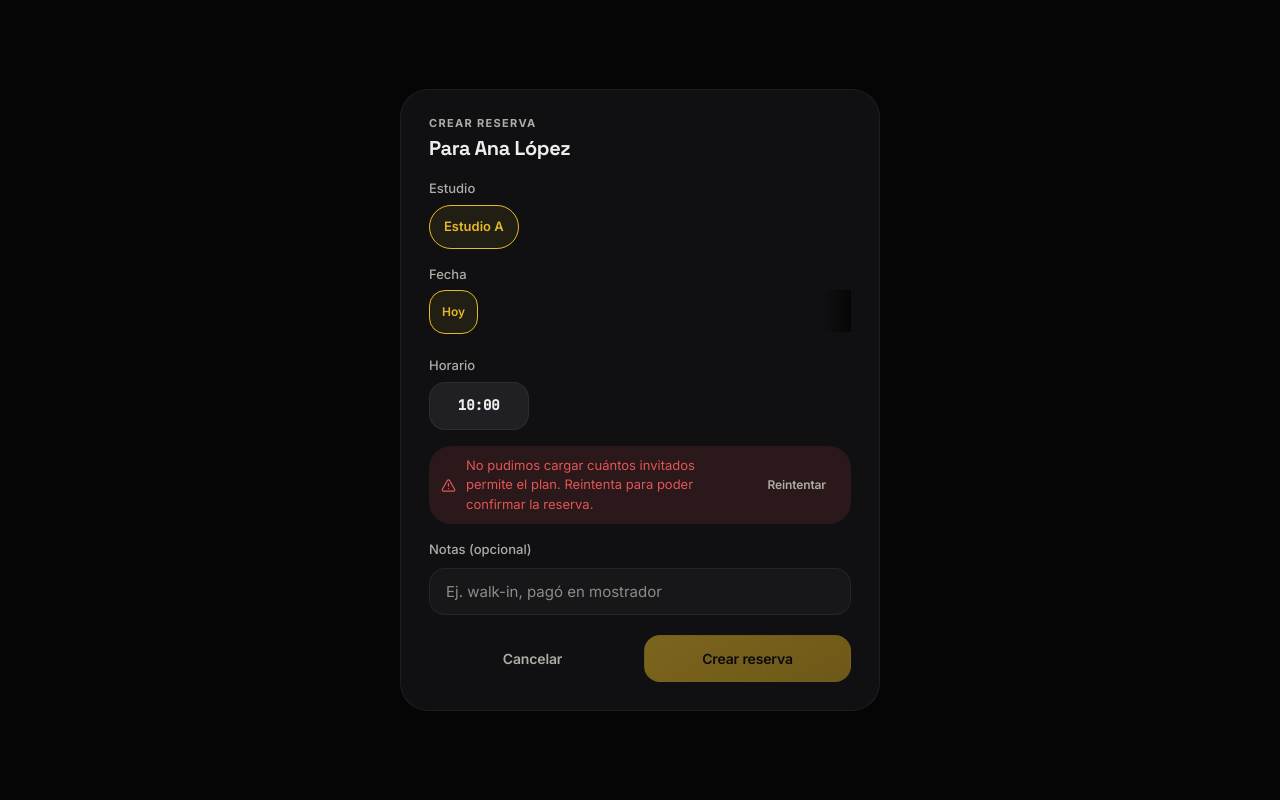
Scenario: CrearReservaModal · estados honestos (PKG-02A) › límite de invitados en ERROR → no se asume 0: aviso, sin stepper, y Confirmar bloqueado hasta reintentar
This screenshot has width=1280, height=800.
Expected: the text "No pudimos cargar cuántos invitados permite el plan" is shown, [466,457,695,512]
Expected: the text "Invitados (" is not shown
Click the button "10:00" at (479, 406), box [429,382,528,430]
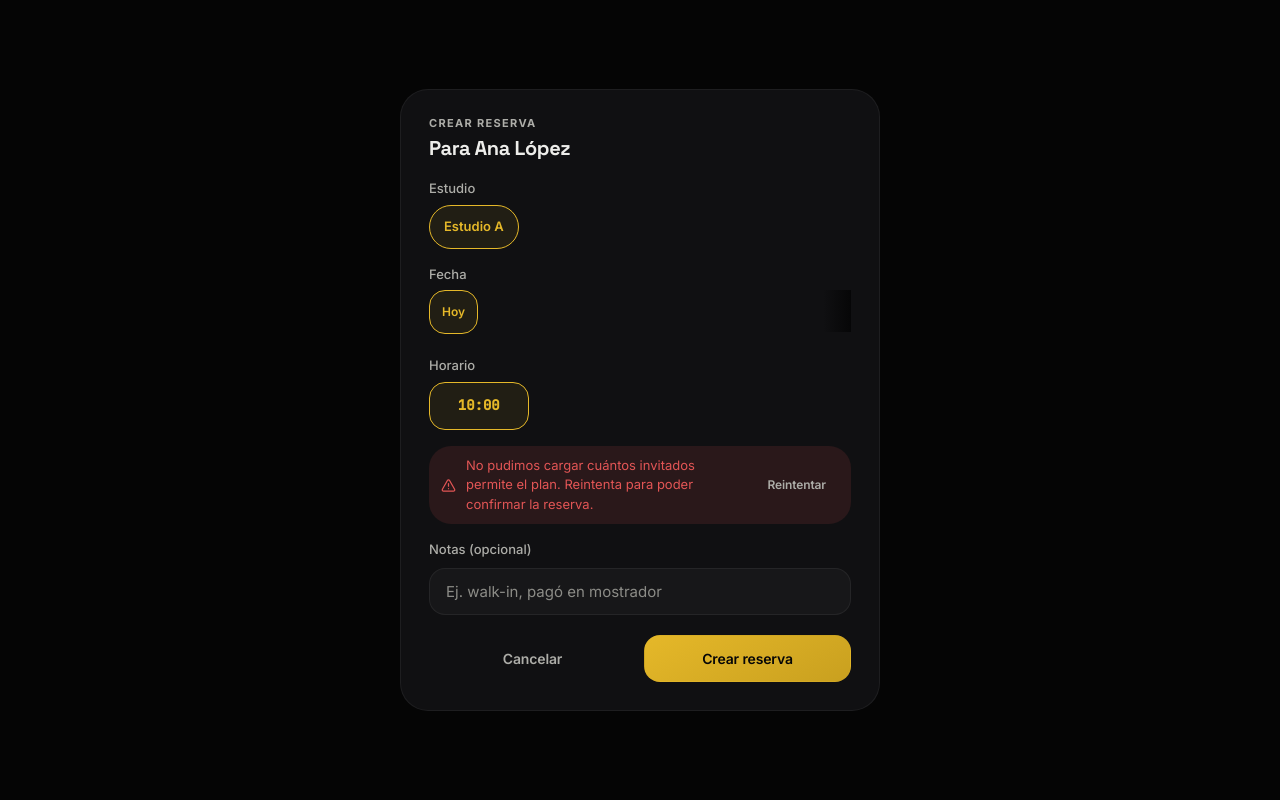
Expected: the button "Crear reserva" is disabled, [644,635,851,682]
Click the button "Reintentar" at (797, 485), box [754,467,839,503]
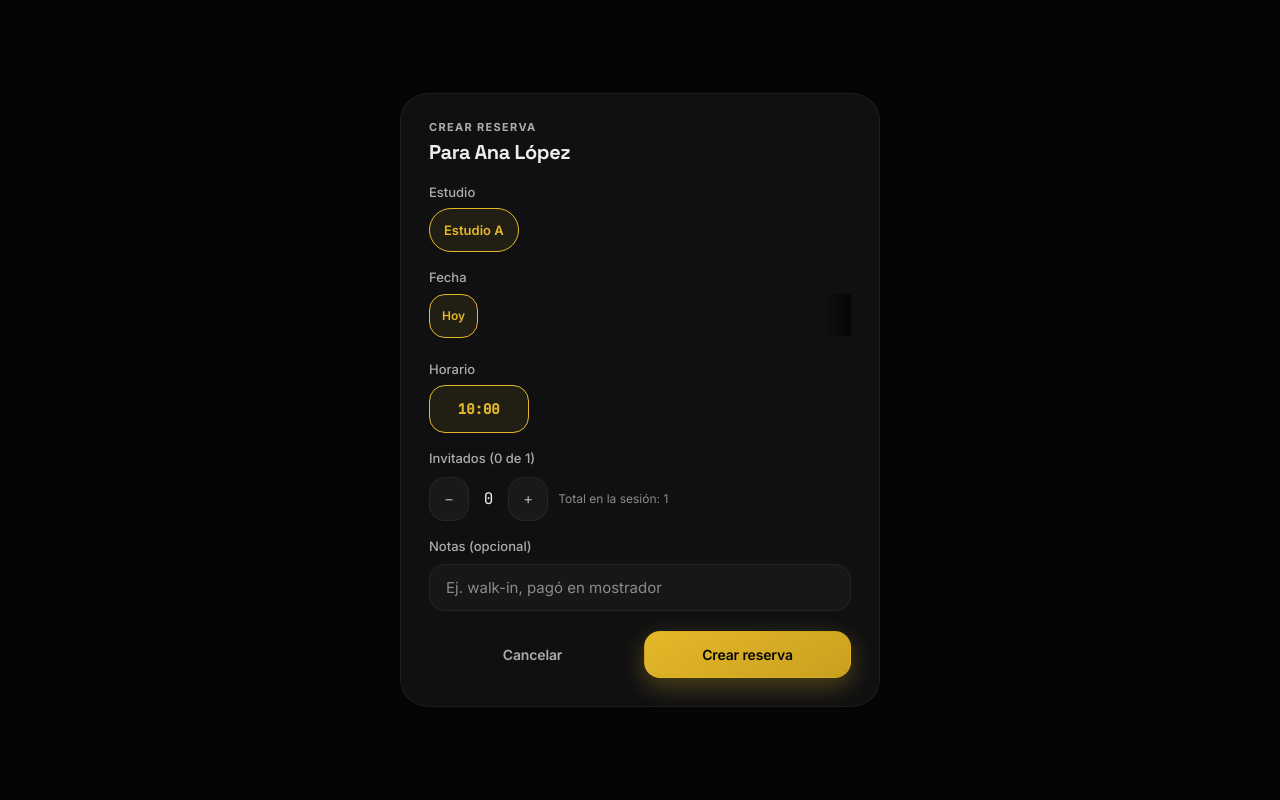
Now the text "Invitados (0 de 1)" is shown, box [429,450,535,466]
Now the button "Crear reserva" is enabled, box [644,631,851,678]
